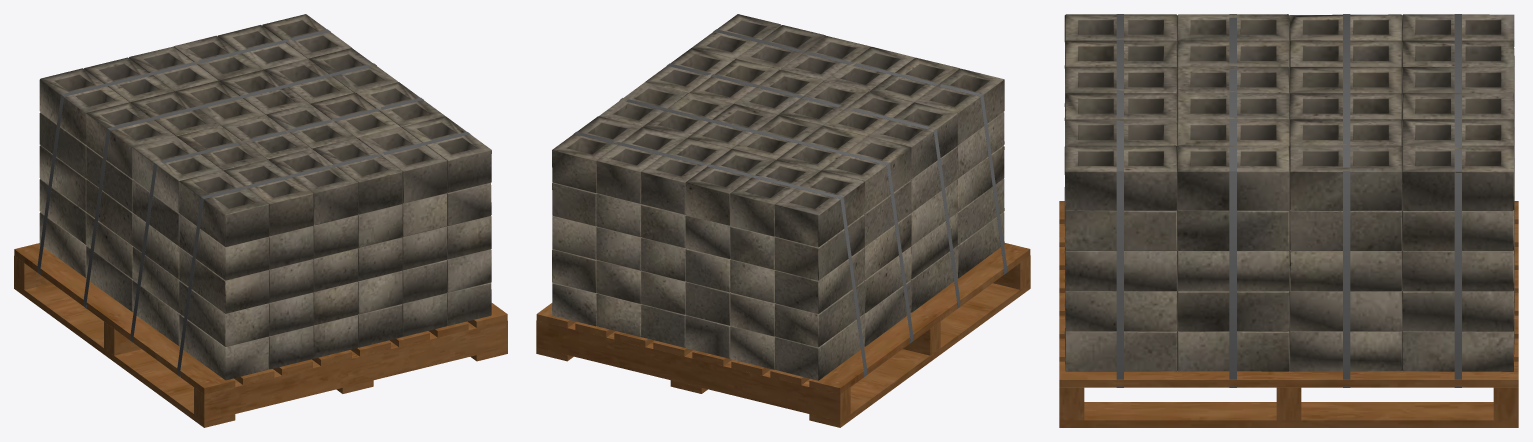
File: brickpallet.glb
3 views of the same model, side by side, from view 1: azimuth 30°, elevation 25°; view 2: azimuth 150°, elevation 25°; view 3: azimuth 270°, elevation 25° (orthographic). The views are drawn at different scales.
Visible parts, largest first — view 1: Object_2, Object_3, Object_4; view 2: Object_2, Object_3, Object_4; view 3: Object_2, Object_3, Object_4.
Part boxes in pixels (x1,y1,x2,y2): Object_2: (39, 14, 491, 380); Object_3: (14, 243, 507, 427); Object_4: (37, 29, 470, 376); Object_2: (552, 14, 1004, 380); Object_3: (536, 243, 1030, 427); Object_4: (574, 29, 1006, 377); Object_2: (1064, 14, 1514, 371); Object_3: (1059, 201, 1518, 427); Object_4: (1116, 14, 1461, 387).
Bounding box in the file's own units: 1.06 × 0.6873 × 1.15.
3 materials, 2 textured.
